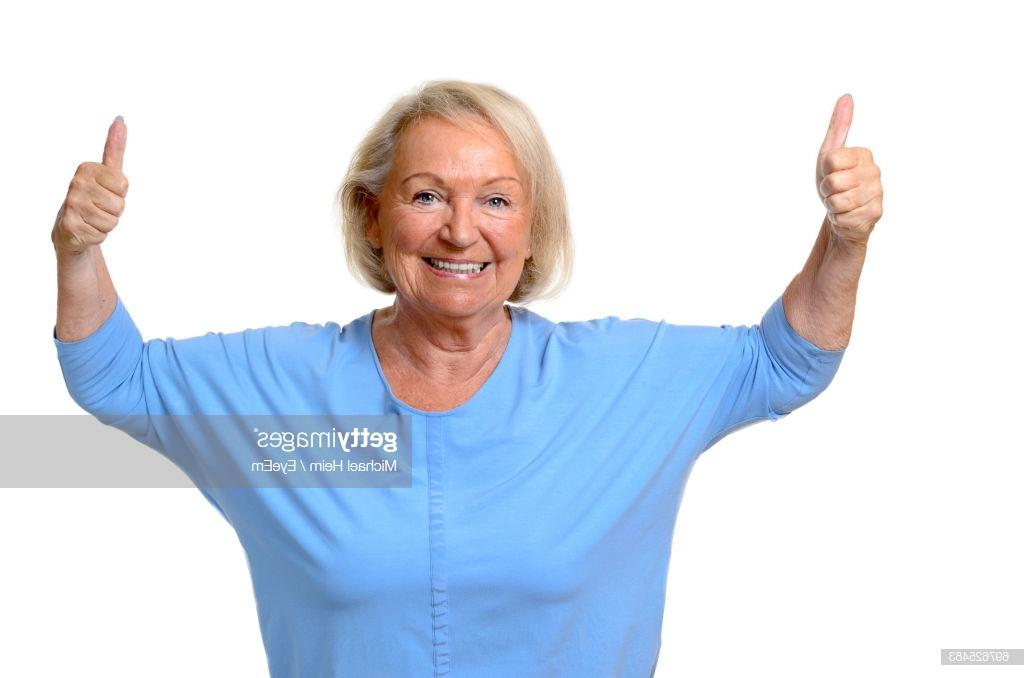thumbsup: (819, 93, 884, 232), (61, 115, 129, 246)
